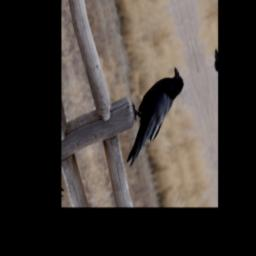Crow: (110, 64, 197, 170)
